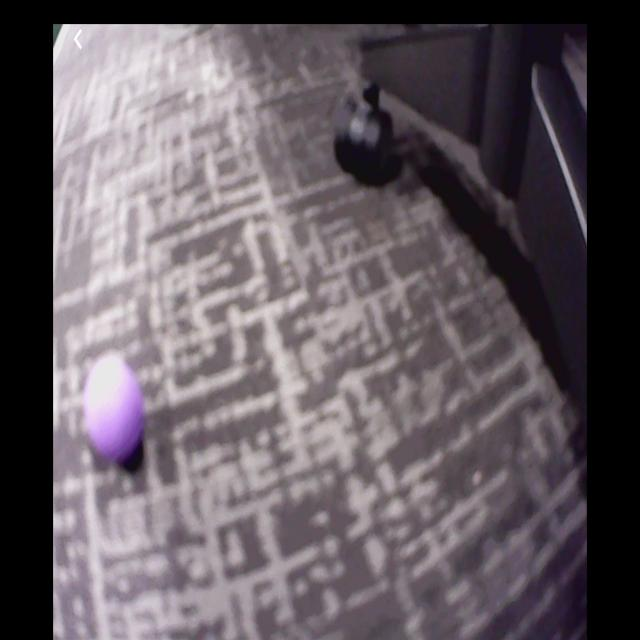ball: (87, 354, 142, 460)
